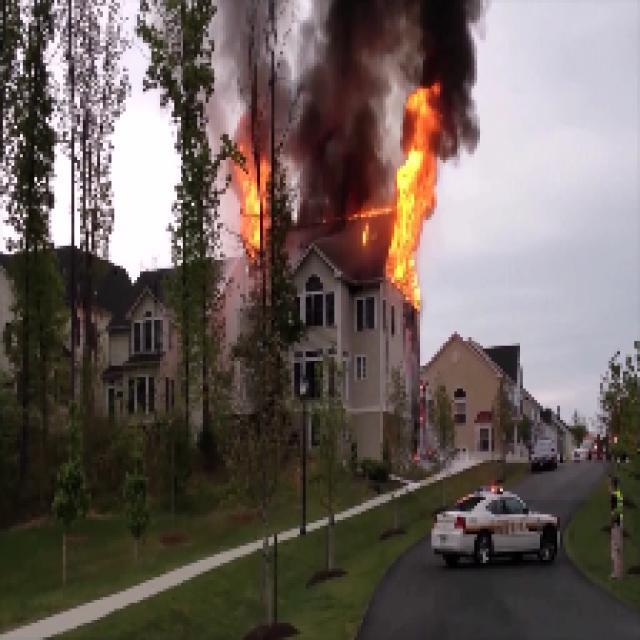Fire: (232, 148, 280, 260), (396, 146, 428, 288)
Smoke: (305, 10, 386, 206), (412, 8, 476, 112)
